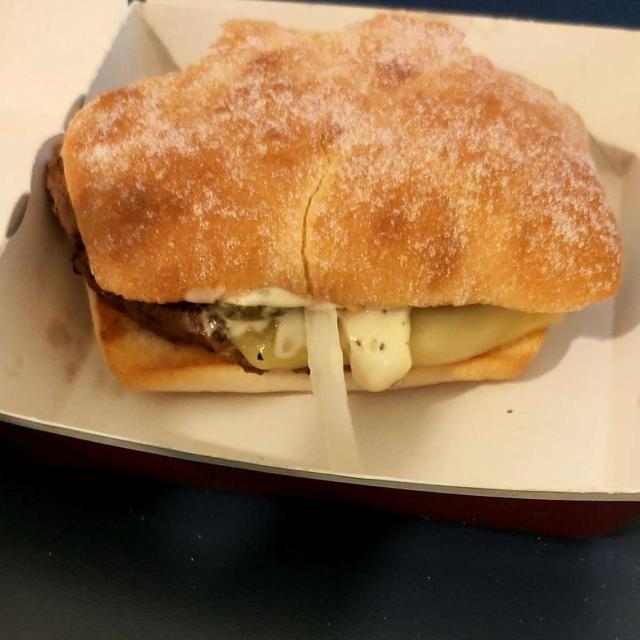hamburger: (59, 22, 619, 401)
